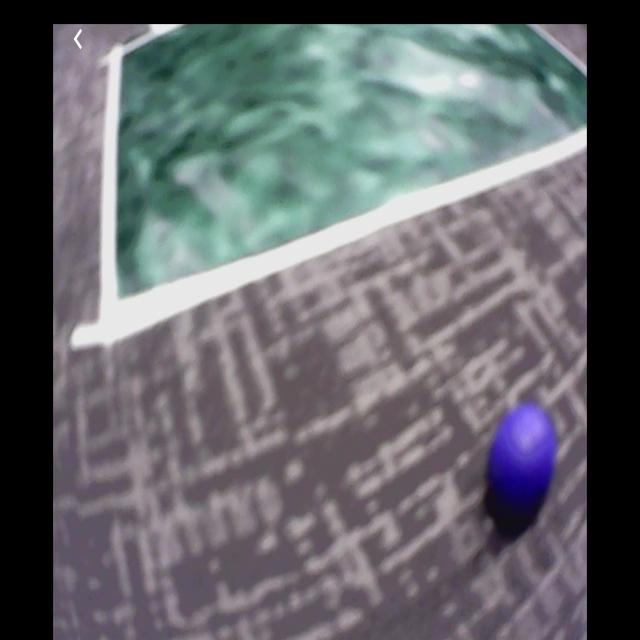ball: (492, 406, 552, 516)
